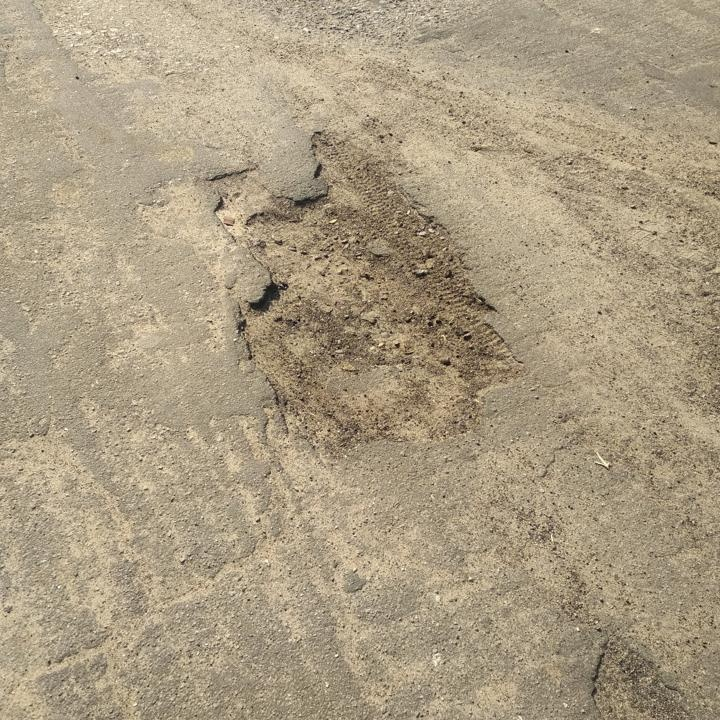pothole: (201, 121, 526, 454), (578, 632, 700, 720)
